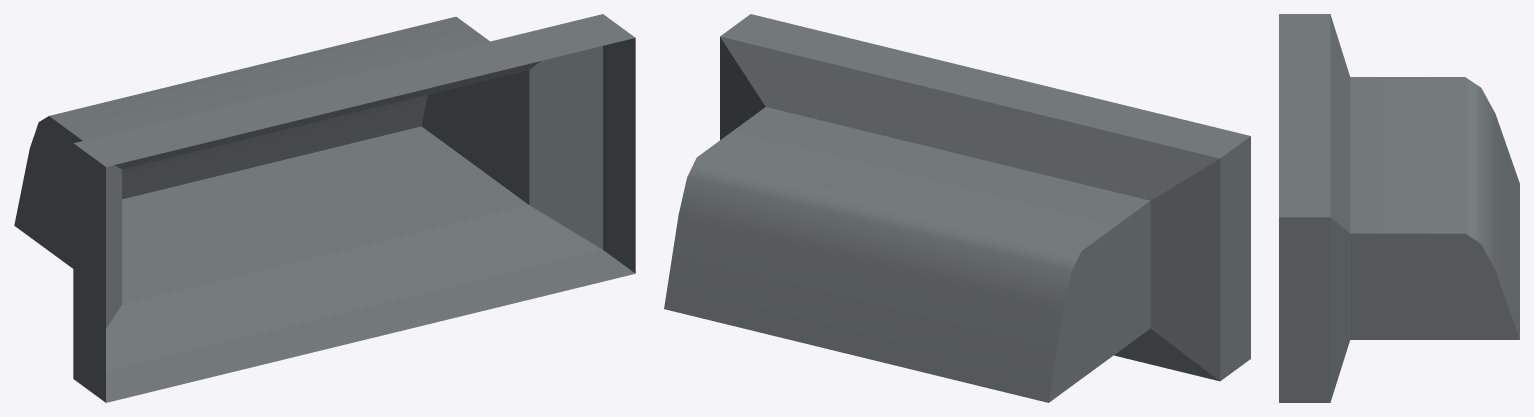
The model's file is Wall_Ornament__5.fbx.
The picture shows the model from 3 angles, left to right: view 1: azimuth 30°, elevation 25°; view 2: azimuth 150°, elevation 25°; view 3: azimuth 270°, elevation 25°; orthographic projection. The views are drawn at different scales.
Parts seen in each view (by area): view 1: Wall_Ornament; view 2: Wall_Ornament; view 3: Wall_Ornament.
Part boxes in pixels (x1,y1,x2,y2): Wall_Ornament: (14,14,635,402); Wall_Ornament: (664,14,1250,402); Wall_Ornament: (1279,14,1519,402).
Bounding box in the file's own units: 0.7806 × 0.3322 × 0.3905.
1 material, 1 textured.
